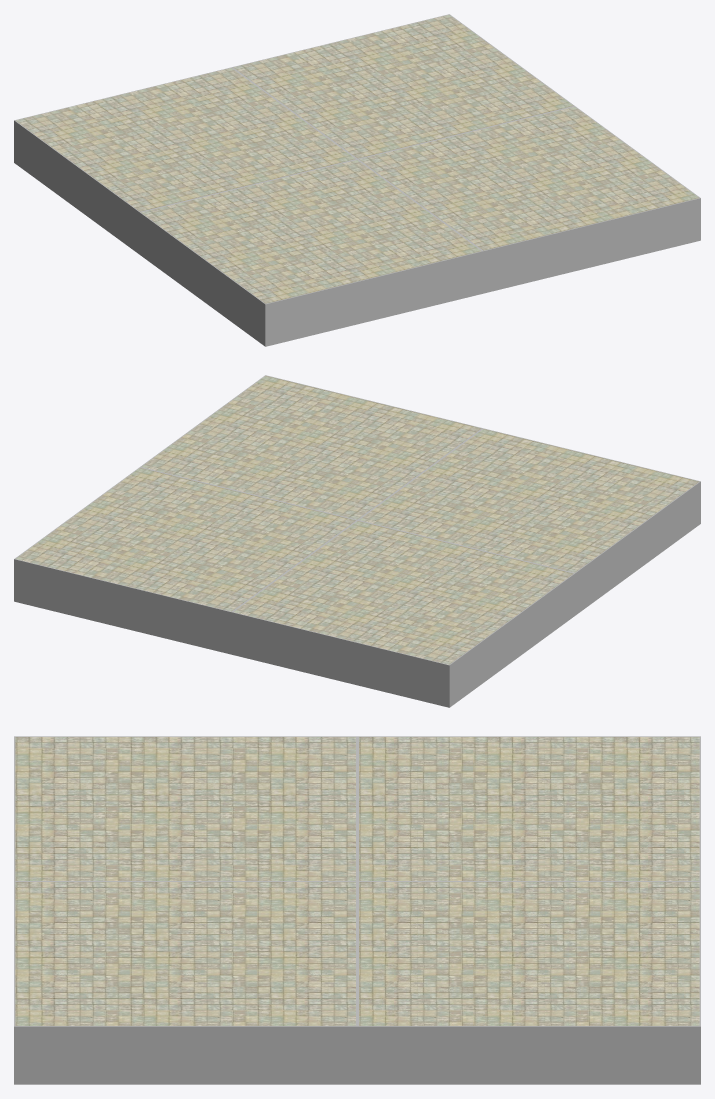
File: road_w01b_inx4.fbx
3 views of the same model, one above another, from view 1: azimuth 30°, elevation 25°; view 2: azimuth 150°, elevation 25°; view 3: azimuth 270°, elevation 25° (orthographic). The views are drawn at different scales.
Visible parts, largest first — view 1: road_w01b_inx4; view 2: road_w01b_inx4; view 3: road_w01b_inx4.
Part boxes in pixels (x1=…): road_w01b_inx4: x1=14, y1=14, x2=700, y2=346; road_w01b_inx4: x1=14, y1=375, x2=700, y2=707; road_w01b_inx4: x1=14, y1=736, x2=700, y2=1084.
Size of the model in its own units: 24 by 2.24 by 24.
